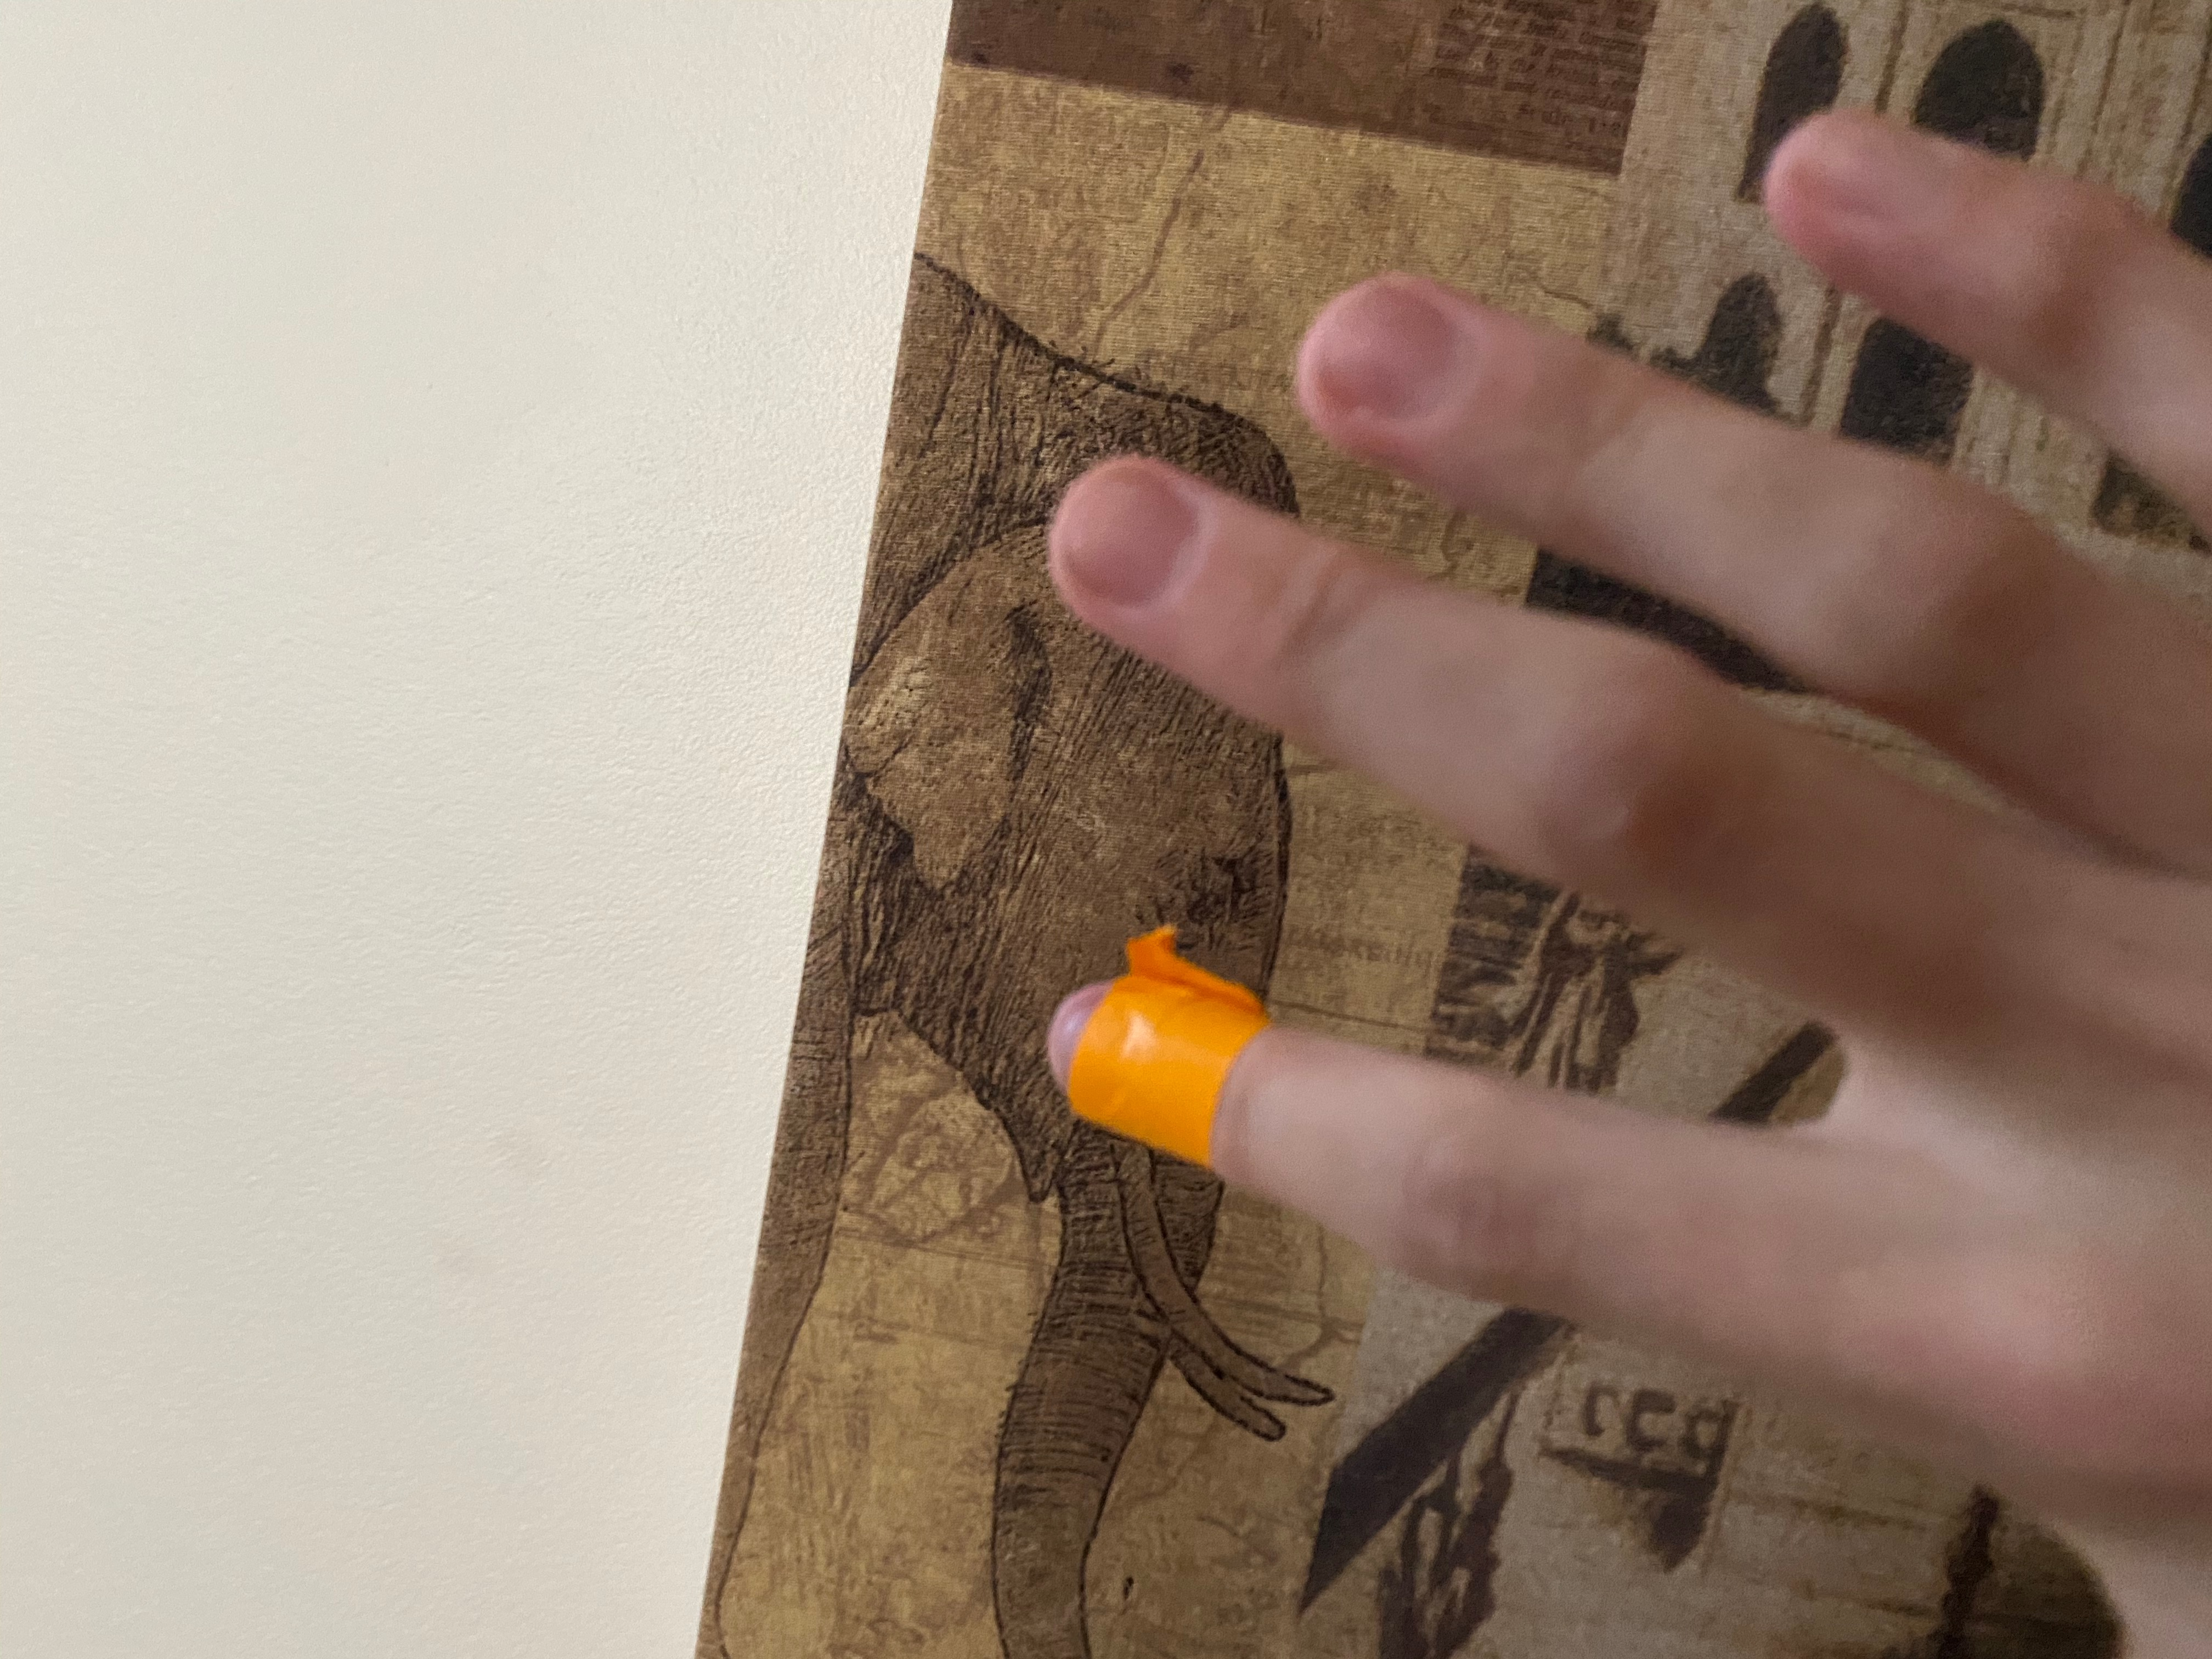fingertip: (1021, 913, 1331, 1208)
